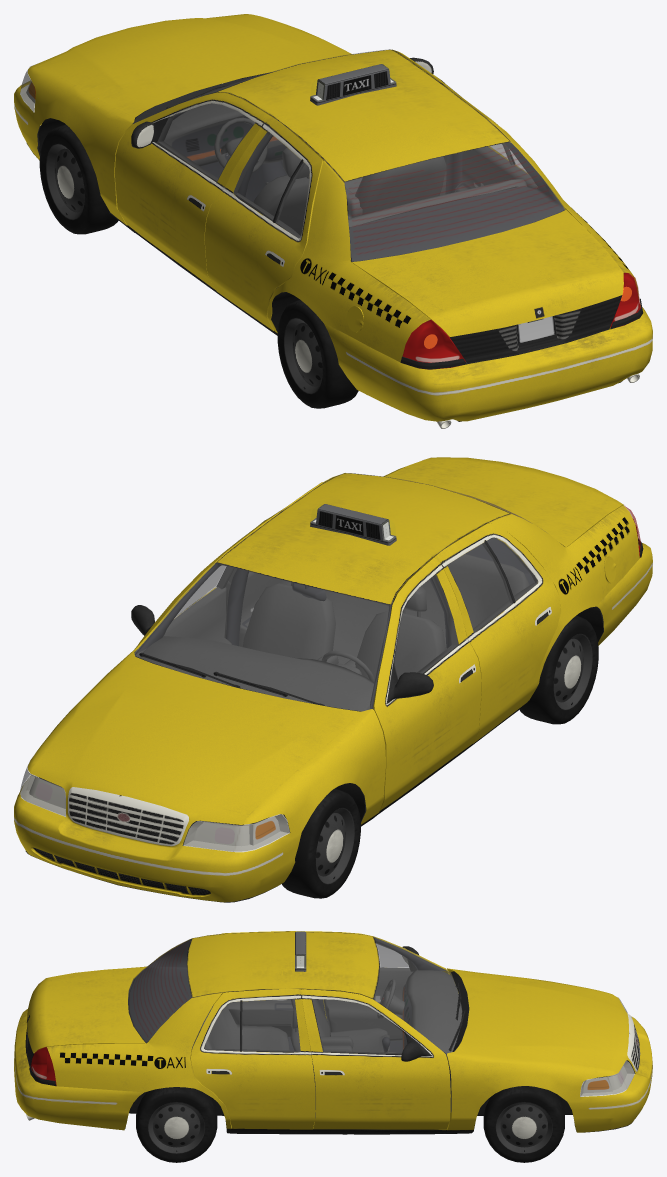
The model's file is car_taxi.fbx.
3 views of the same model, one above another, from view 1: azimuth 30°, elevation 25°; view 2: azimuth 150°, elevation 25°; view 3: azimuth 270°, elevation 25° (orthographic). The views are drawn at different scales.
Parts seen in each view (by area): view 1: body, trunk, doorFL, doorRL, wrl, wfl, doorRR, taxiSign1, steering; view 2: body, doorFL, doorRL, trunk, wfl, wrl, doorFR, taxiSign1, doorRR; view 3: body, doorFR, doorRR, trunk, wfr, wrr, doorFL, doorRL, steering, taxiSign1.
Part boxes in pixels (x1,y1,x2,y2): body: (14, 14, 652, 428); trunk: (352, 210, 623, 363); doorFL: (115, 92, 271, 289); doorRL: (204, 116, 323, 330); wrl: (277, 299, 358, 408); wfl: (39, 124, 118, 234); doorRR: (434, 77, 537, 191); taxiSign1: (310, 64, 396, 105); steering: (214, 117, 267, 172); body: (14, 466, 652, 902); doorFL: (373, 557, 481, 810); doorRL: (434, 523, 560, 743); trunk: (385, 457, 623, 547); wfl: (282, 788, 360, 898); wrl: (519, 615, 598, 724); doorFR: (131, 518, 271, 657); taxiSign1: (310, 504, 396, 545); doorRR: (225, 482, 322, 646); body: (14, 932, 652, 1134); doorFR: (301, 989, 450, 1129); doorRR: (191, 988, 315, 1129); trunk: (25, 967, 146, 1066); wfr: (483, 1086, 564, 1162); wrr: (136, 1087, 217, 1162); doorFL: (301, 931, 447, 1041); doorRL: (221, 931, 300, 1036); steering: (377, 979, 404, 1019); taxiSign1: (295, 931, 306, 971).
Bounding box in the file's own units: 228 × 172 × 573.
